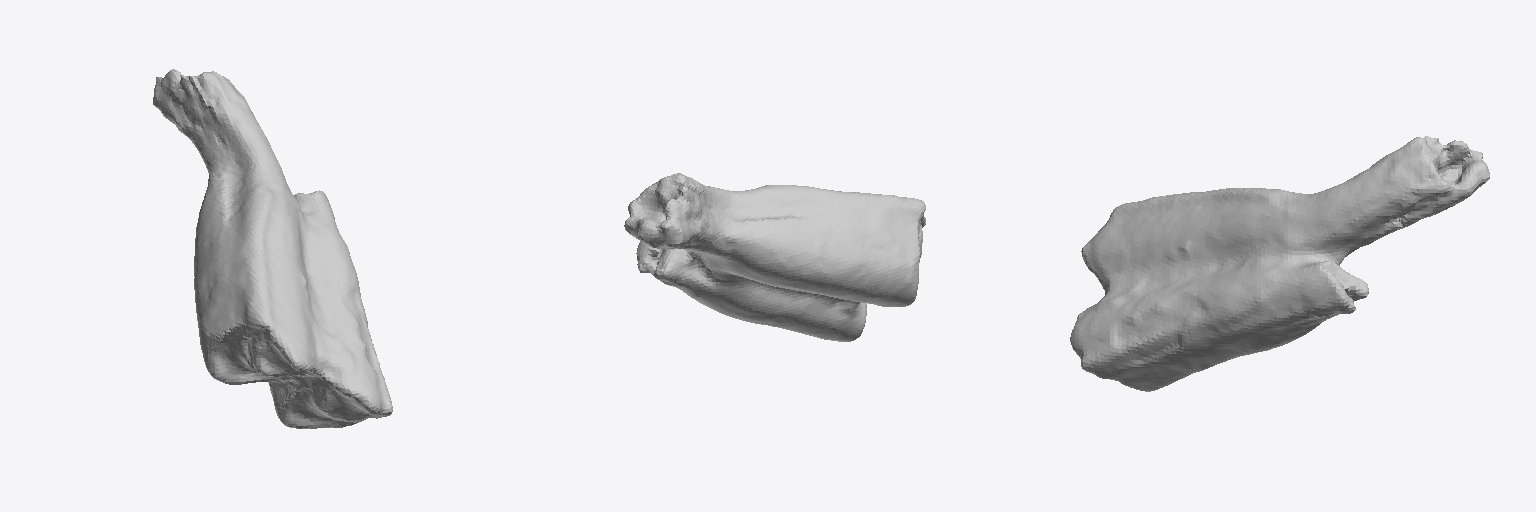
File: MB Ovis 11 M2.obj
3 renders of one model, left to right at view 1: azimuth 30°, elevation 25°; view 2: azimuth 150°, elevation 25°; view 3: azimuth 270°, elevation 25°, orthographic.
Size of the model in its own units: 17.55 by 21.35 by 31.89.